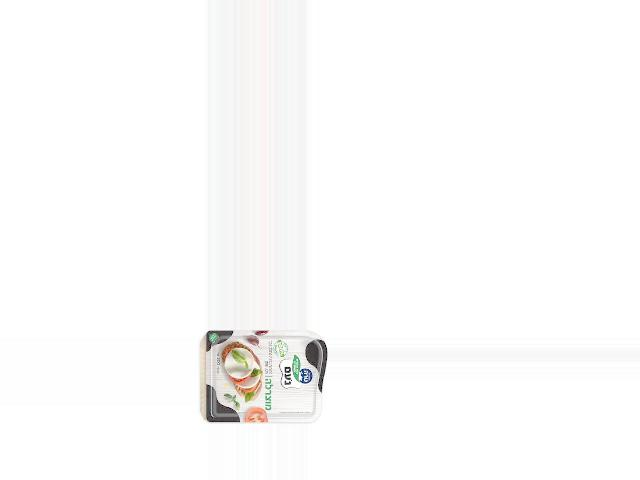cheese: (204, 330, 325, 424)
